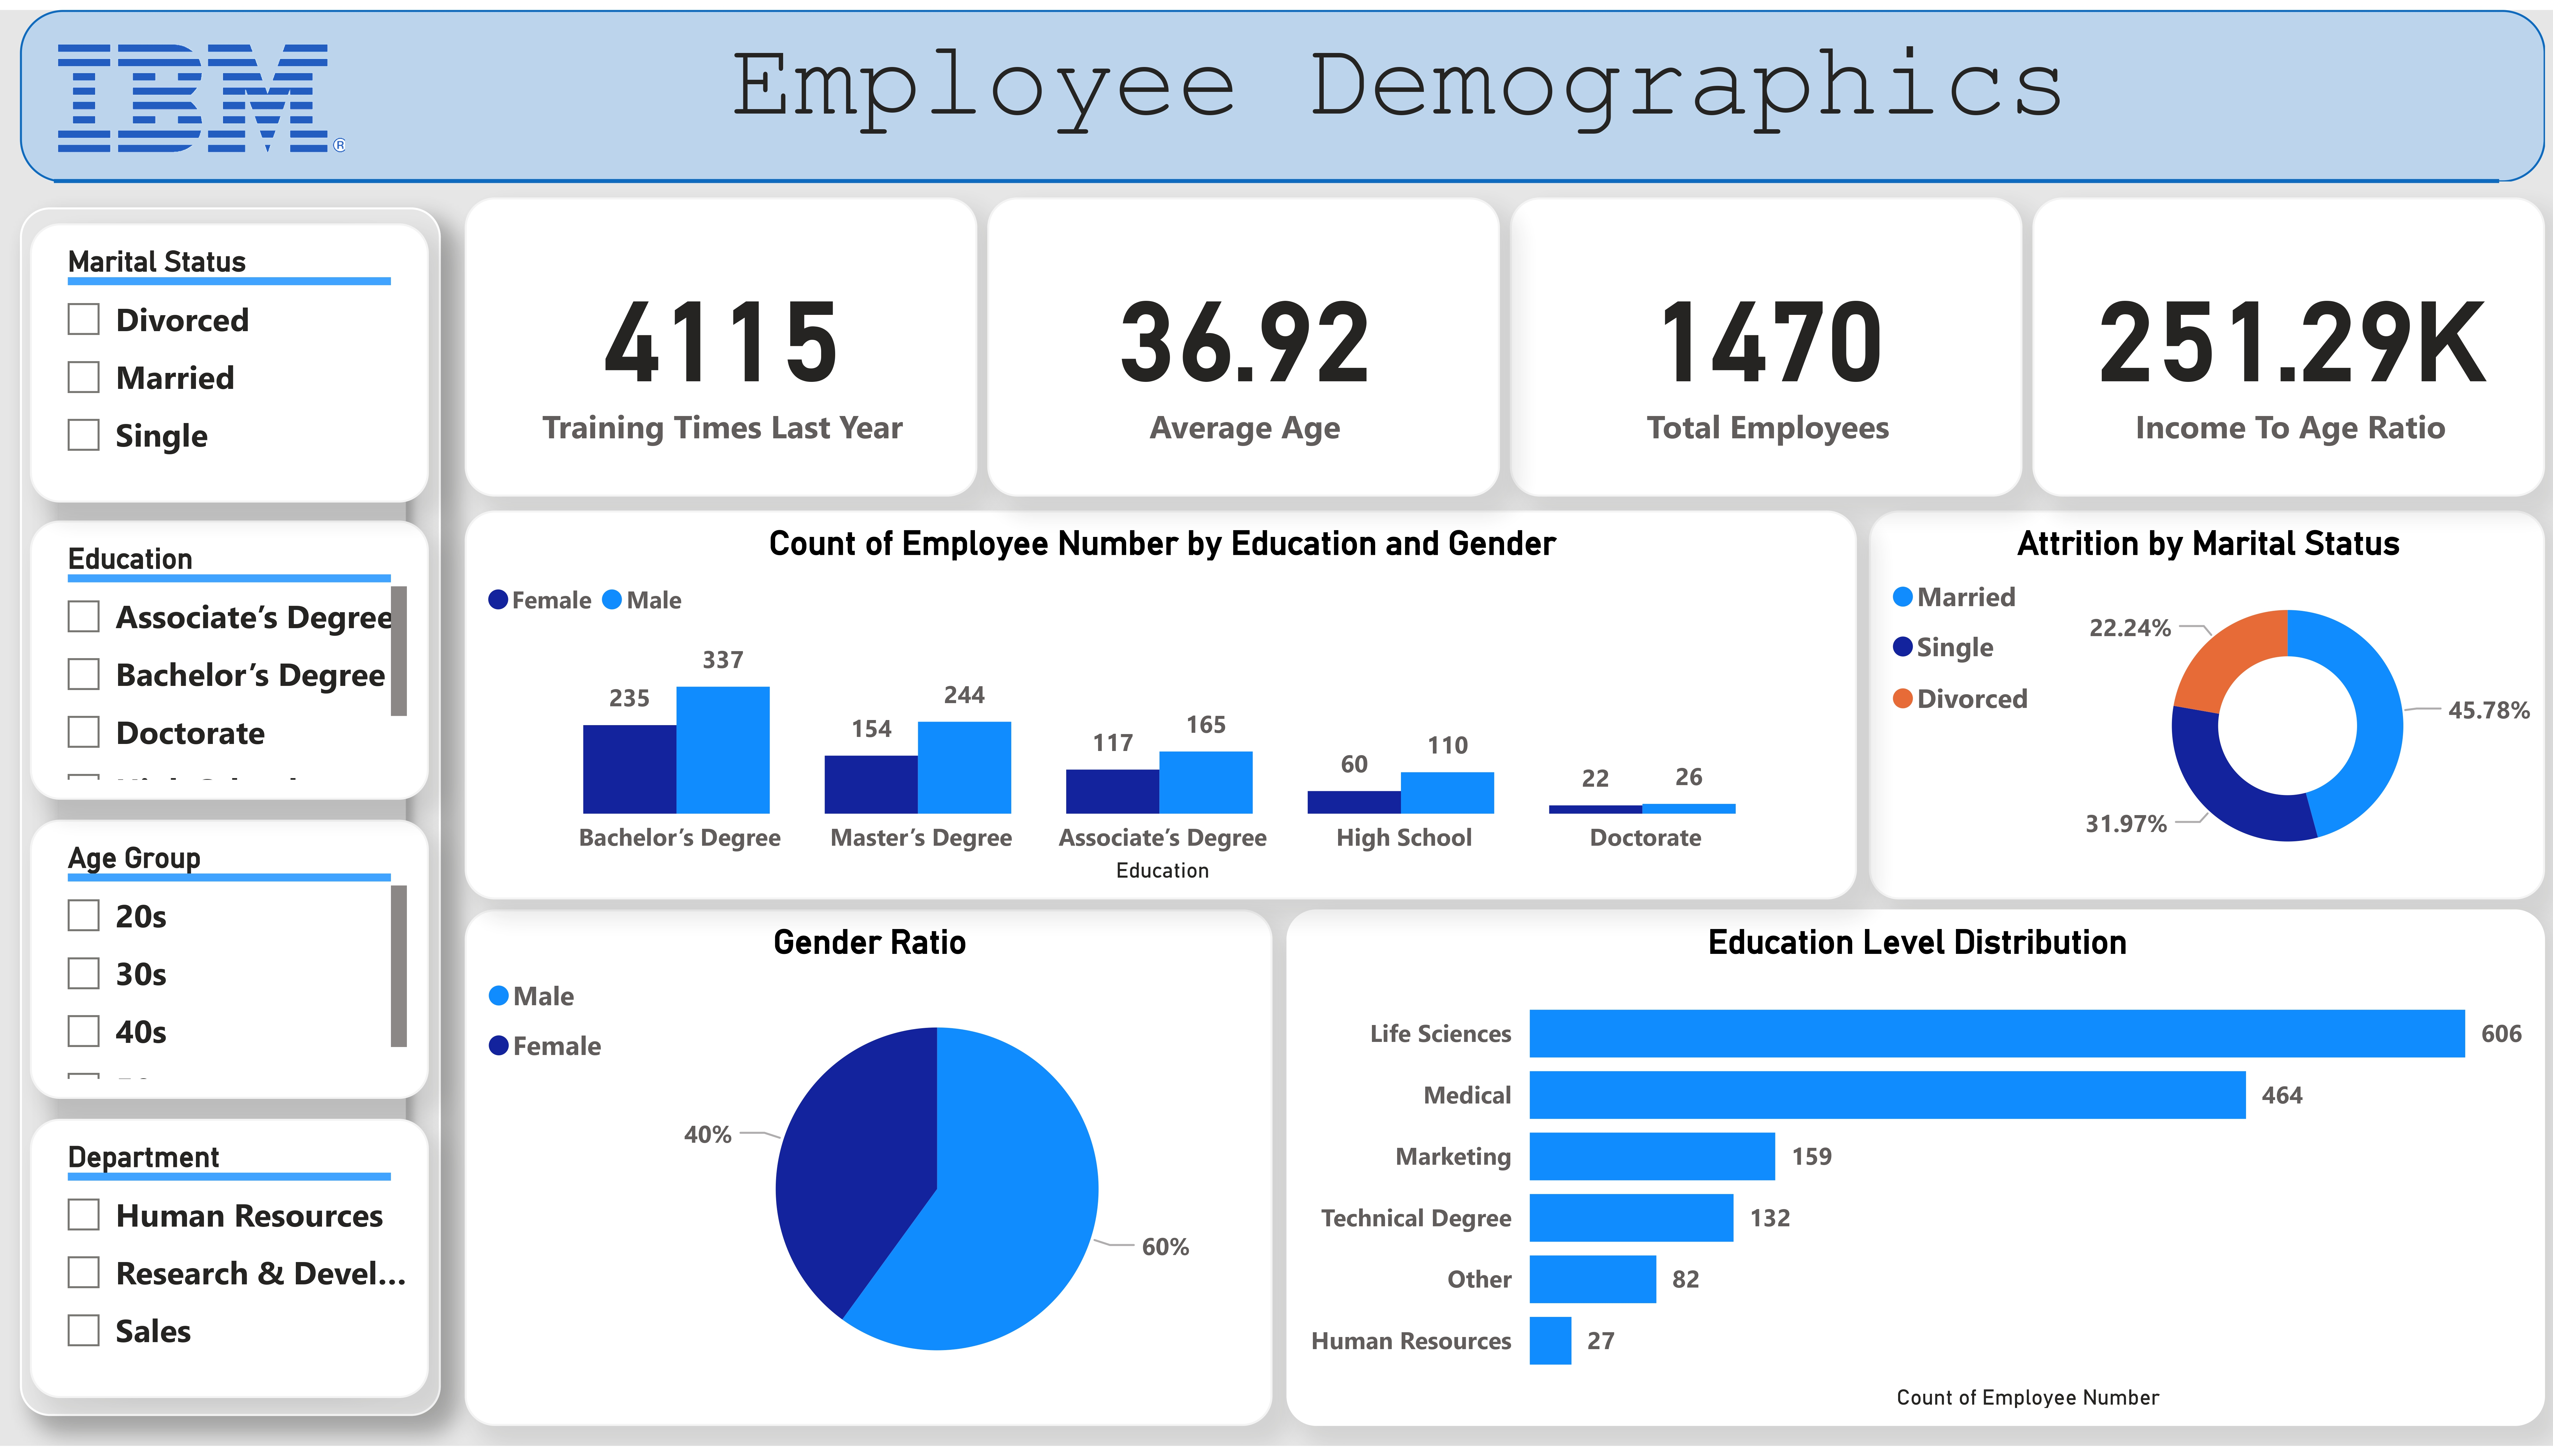

Layout of this report page (visuals, bound fields, positions):
{"tool":"powerbi","page":{"name":"Employee Demographics","canvas":[1280,720],"ordinal":0},"visuals":[{"type":"shape","box":[9.6,0,1266.3,86.4],"z":0},{"type":"shape","box":[10,99,211,606],"z":500},{"type":"card","fields":{"Values":["Sum(Cleaned_Employee_Data.Training Times Last Year)"]},"box":[233,94,256.5,150],"z":1000},{"type":"donutChart","fields":{"Category":["Cleaned_Employee_Data.Marital Status"],"Y":["CountNonNull(Cleaned_Employee_Data.Attrition)"]},"box":[937,251.1,338.9,194.8],"z":2000},{"type":"pieChart","title":"Gender Ratio","fields":{"Category":["Cleaned_Employee_Data.Gender"],"Y":["CountNonNull(Cleaned_Employee_Data.Employee Number)"]},"box":[233.2,451.4,404.7,259.3],"z":3000},{"type":"barChart","title":"Education Level Distribution","fields":{"Category":["Cleaned_Employee_Data.Education Field"],"Y":["CountNonNull(Cleaned_Employee_Data.Employee Number)"]},"box":[644.8,451.4,631.1,259.3],"z":4000},{"type":"card","fields":{"Values":["CountNonNull(Cleaned_Employee_Data.Employee Number)"]},"box":[757,94,257,150],"z":5000},{"type":"clusteredColumnChart","fields":{"Category":["Cleaned_Employee_Data.Education"],"Series":["Cleaned_Employee_Data.Gender"],"Y":["CountNonNull(Cleaned_Employee_Data.Employee Number)"]},"box":[233.2,251,698,195],"z":6000},{"type":"card","fields":{"Values":["Avg(Cleaned_Employee_Data.Age)"]},"box":[495,94,256.5,150],"z":7000},{"type":"card","fields":{"Values":["Sum(Cleaned_Employee_Data.Income To Age Ratio)"]},"box":[1019,94,257,150],"z":8000},{"type":"image","box":[0,0,200.3,86.4],"z":10000},{"type":"slicer","fields":{"Values":["Cleaned_Employee_Data.Age Group"]},"box":[15,406,200.3,139.9],"z":11000},{"type":"slicer","fields":{"Values":["Cleaned_Employee_Data.Education"]},"box":[15,256,200.3,139.9],"z":12000},{"type":"slicer","fields":{"Values":["Cleaned_Employee_Data.Marital Status"]},"box":[15,107,200.3,139.9],"z":13000},{"type":"slicer","fields":{"Values":["Cleaned_Employee_Data.Department"]},"box":[15,556,200.3,139.9],"z":14000},{"type":"textbox","box":[360.8,2.7,915.1,82.3],"z":15000},{"type":"shape","box":[27.4,11,1226.5,149.5],"z":16000}]}

Visuals, with their boxes in screenshot pixels (x1, y1, x2, y2), scaled from the page's 1280x720 canvas onto the 2553x1456 screenshot:
shape: {"left": 19, "top": 0, "right": 2545, "bottom": 175}
shape: {"left": 20, "top": 200, "right": 441, "bottom": 1426}
card - Sum(Cleaned_Employee_Data.Training Times Last Year): {"left": 465, "top": 190, "right": 976, "bottom": 494}
donutChart - Cleaned_Employee_Data.Marital Status x CountNonNull(Cleaned_Employee_Data.Attrition): {"left": 1869, "top": 508, "right": 2545, "bottom": 902}
"Gender Ratio" pieChart: {"left": 465, "top": 913, "right": 1272, "bottom": 1437}
"Education Level Distribution" barChart: {"left": 1286, "top": 913, "right": 2545, "bottom": 1437}
card - CountNonNull(Cleaned_Employee_Data.Employee Number): {"left": 1510, "top": 190, "right": 2023, "bottom": 494}
clusteredColumnChart - Cleaned_Employee_Data.Education x Cleaned_Employee_Data.Gender: {"left": 465, "top": 508, "right": 1857, "bottom": 902}
card - Avg(Cleaned_Employee_Data.Age): {"left": 987, "top": 190, "right": 1499, "bottom": 494}
card - Sum(Cleaned_Employee_Data.Income To Age Ratio): {"left": 2033, "top": 190, "right": 2545, "bottom": 494}
image: {"left": 0, "top": 0, "right": 400, "bottom": 175}
slicer - Cleaned_Employee_Data.Age Group: {"left": 30, "top": 821, "right": 430, "bottom": 1104}
slicer - Cleaned_Employee_Data.Education: {"left": 30, "top": 518, "right": 430, "bottom": 801}
slicer - Cleaned_Employee_Data.Marital Status: {"left": 30, "top": 216, "right": 430, "bottom": 499}
slicer - Cleaned_Employee_Data.Department: {"left": 30, "top": 1124, "right": 430, "bottom": 1407}
textbox: {"left": 720, "top": 5, "right": 2545, "bottom": 172}
shape: {"left": 55, "top": 22, "right": 2501, "bottom": 324}
